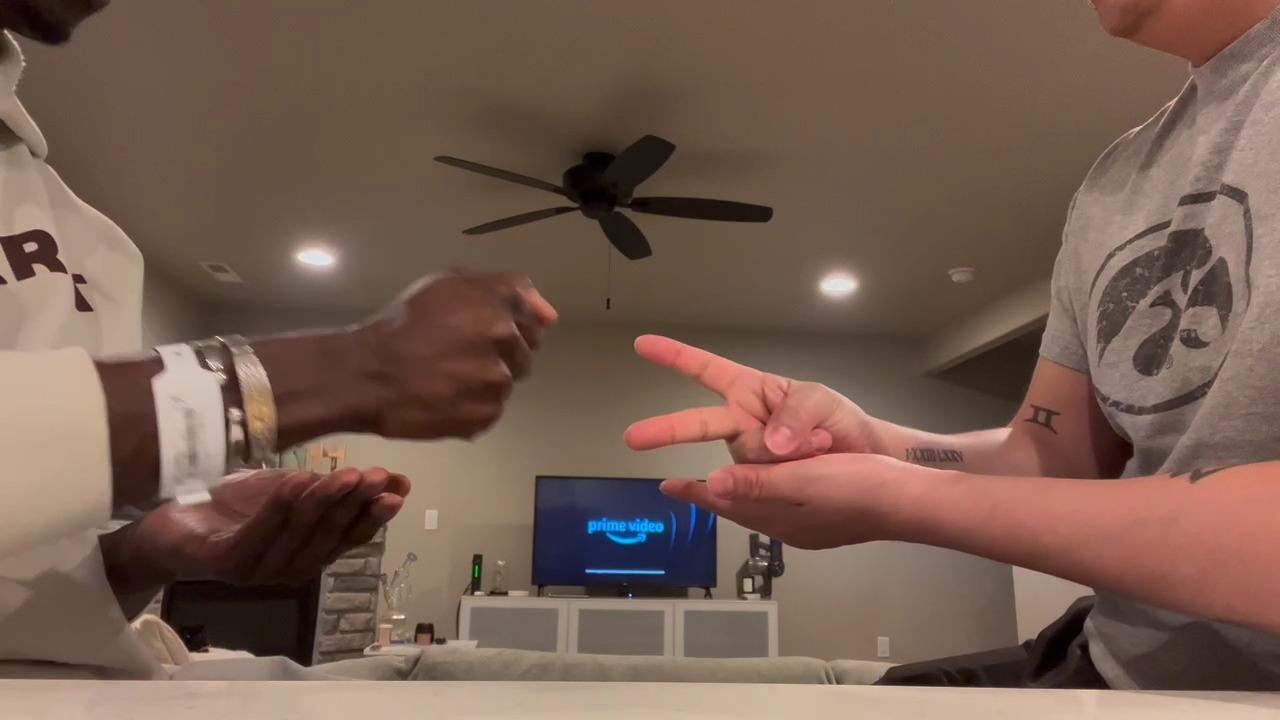Rock: (367, 262, 559, 444)
Scissors: (627, 333, 873, 469)
